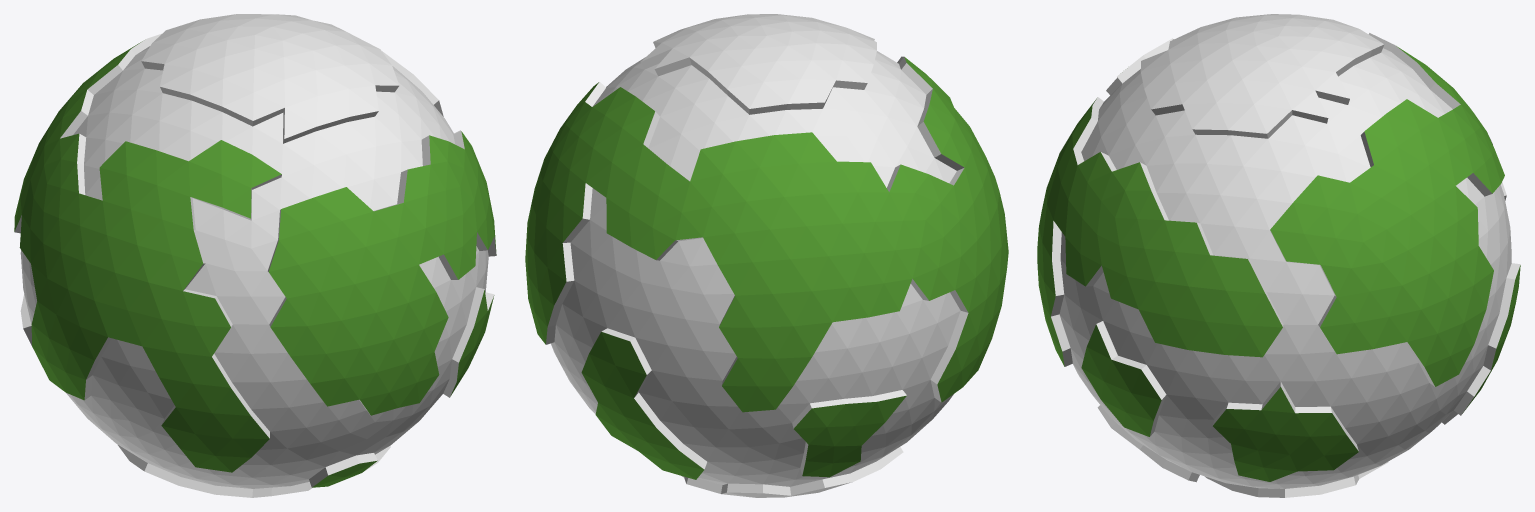
The model's file is Ziemia.fbx.
3 views of the same model, side by side, from view 1: azimuth 30°, elevation 25°; view 2: azimuth 150°, elevation 25°; view 3: azimuth 270°, elevation 25° (orthographic).
Visible parts, largest first — view 1: Icosphere; view 2: Icosphere; view 3: Icosphere.
Boxes of the visible parts, x1,y1,x2,y2 form: Icosphere: (14, 14, 496, 497); Icosphere: (525, 14, 1008, 497); Icosphere: (1037, 14, 1520, 497).
Size of the model in its own units: 198 by 199 by 199.
